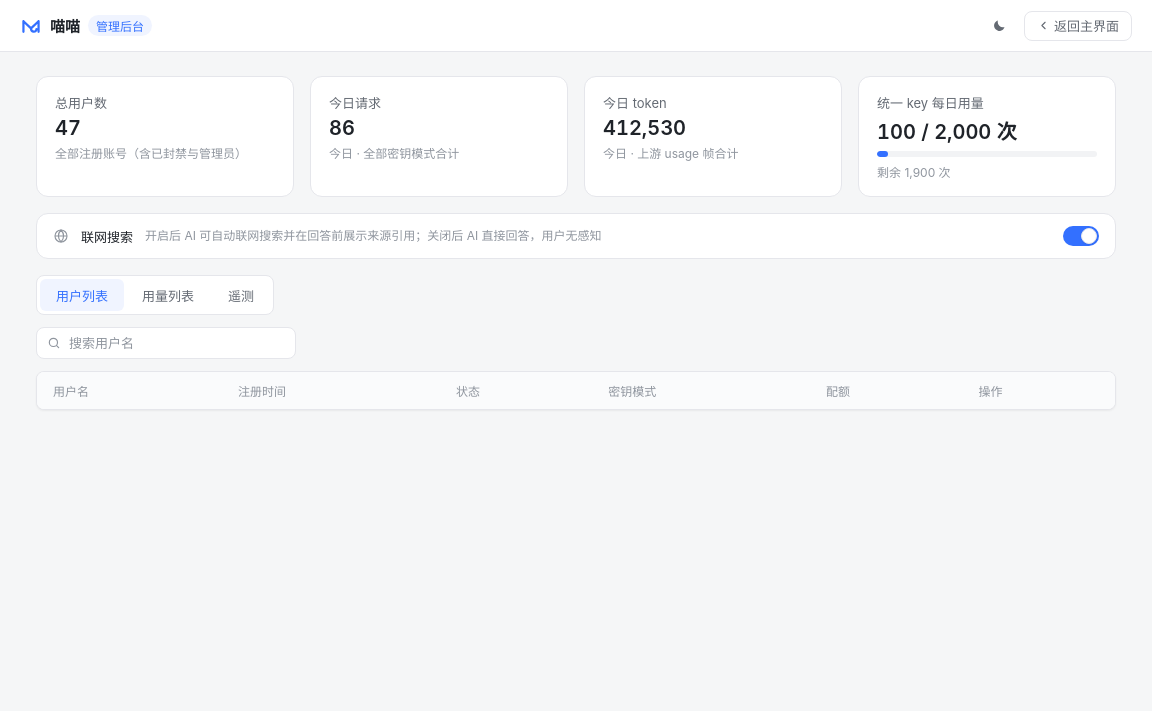
Test: 遥测 tab 加法扩展（design-iter-15 §2，零回退纪律） › 切回用户列表：用户面板正常渲染（前两 tab 行为零变化），遥测面板保留 DOM（v-show）
Click the radio button labelled "遥测" at (241, 295), box left=212, top=279, right=270, bottom=311
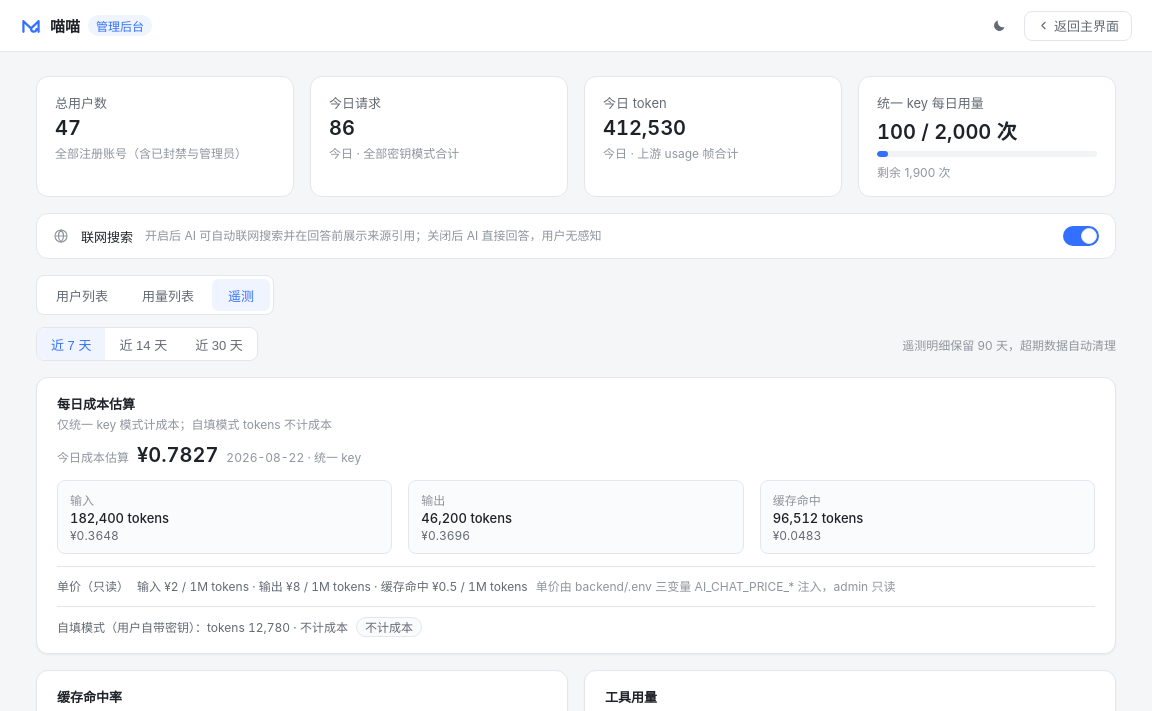
Click the radio button labelled "用户列表" at (82, 295), box left=40, top=279, right=124, bottom=311
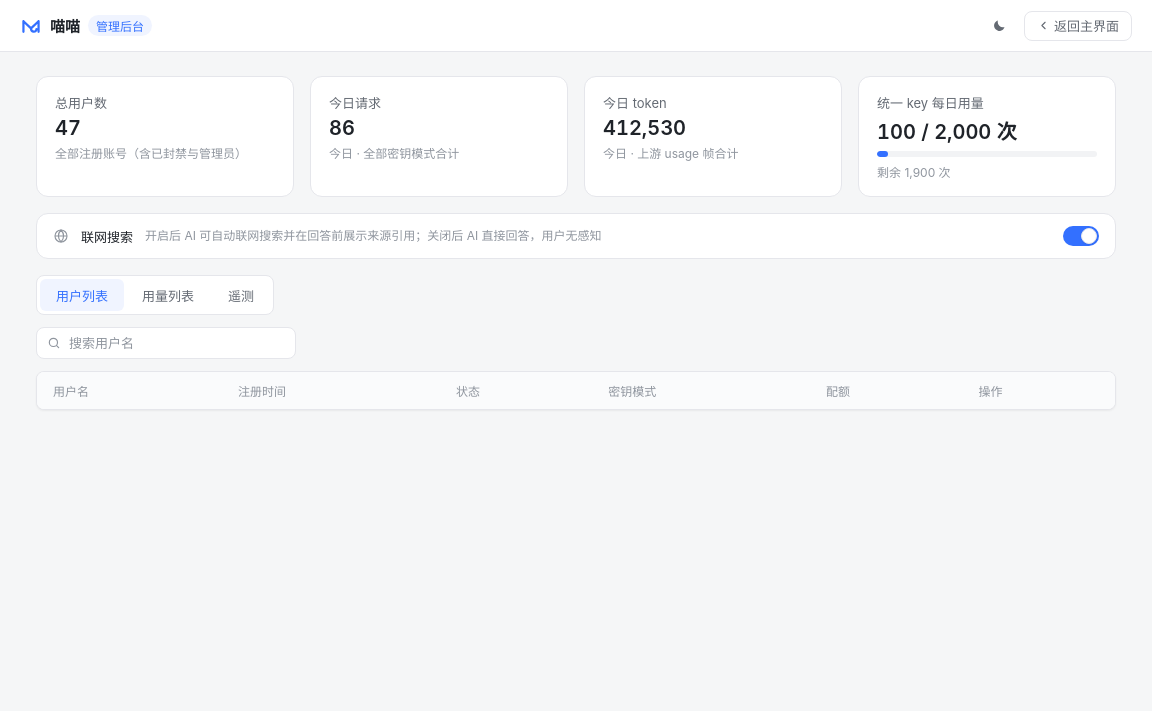
Expected: the element with class "u-toolbar" is shown, left=36, top=327, right=296, bottom=359
